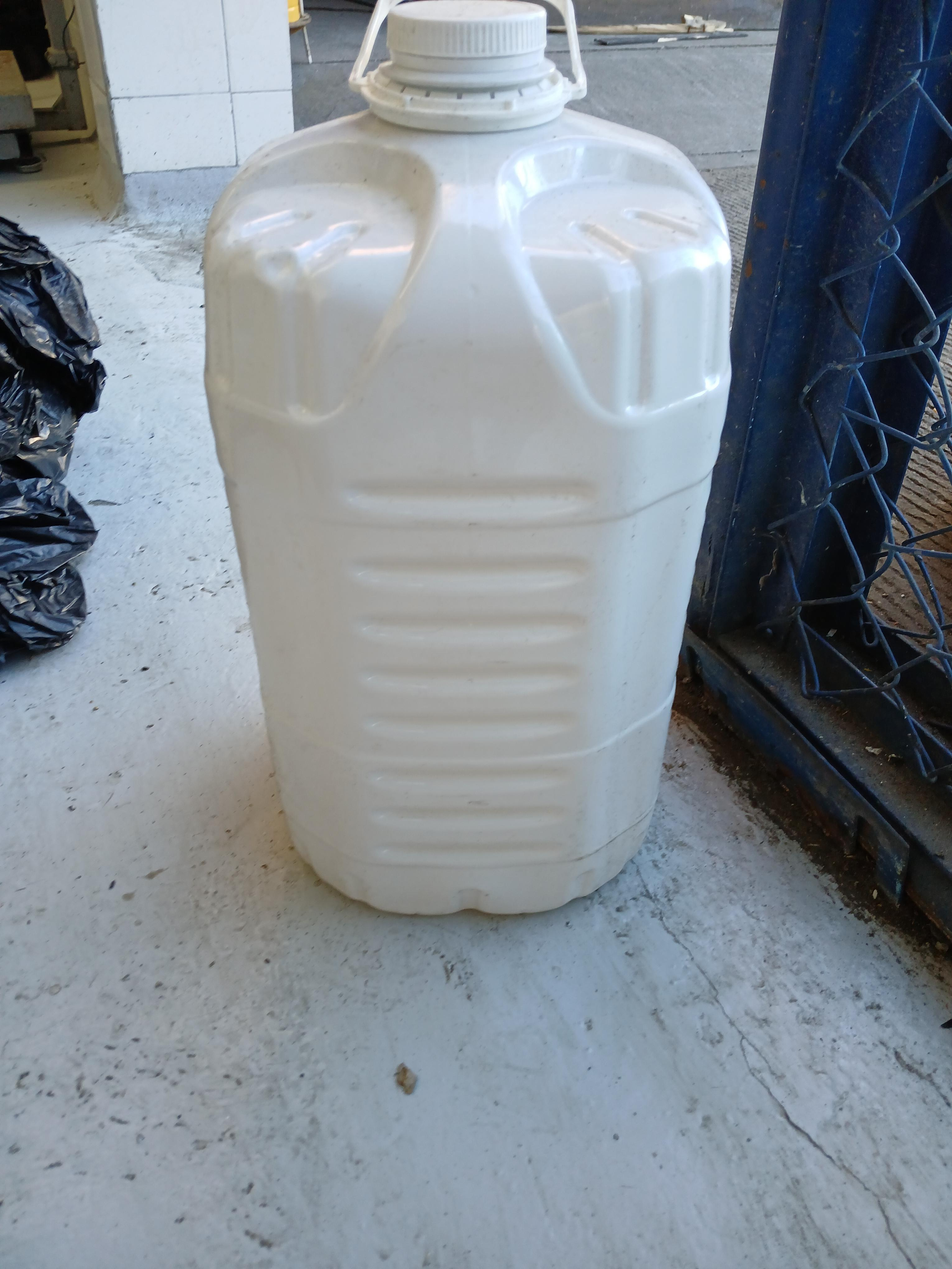Plastico: (202, 4, 729, 919)
